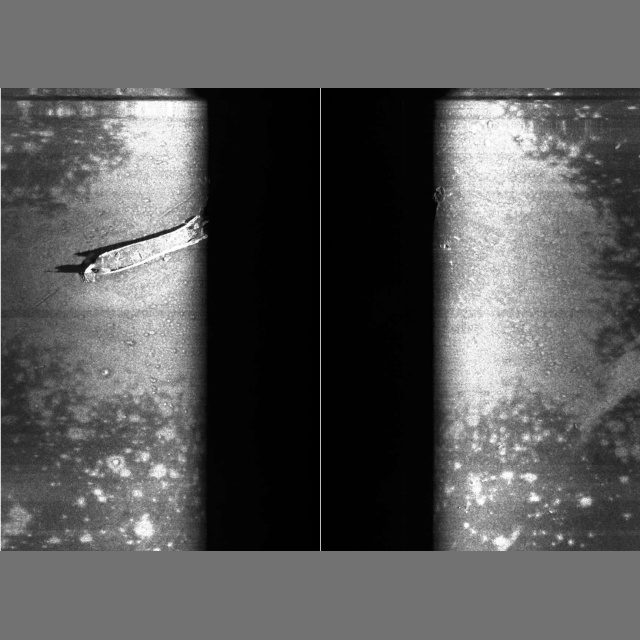Shipwreck: (82, 167, 460, 283)
